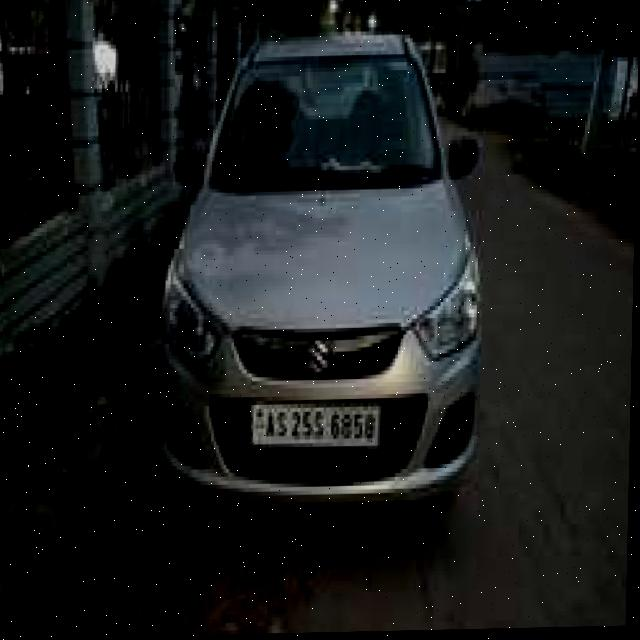plate: (250, 396, 383, 456)
